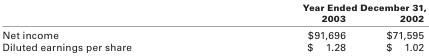table: (1, 1, 425, 52)
table column: (1, 1, 216, 52), (216, 1, 365, 52), (365, 1, 425, 52)
table column header: (1, 1, 425, 25)
table row: (1, 25, 425, 40), (1, 12, 425, 25), (1, 40, 425, 52), (1, 1, 425, 12)
table spanning cell: (216, 1, 425, 12)
